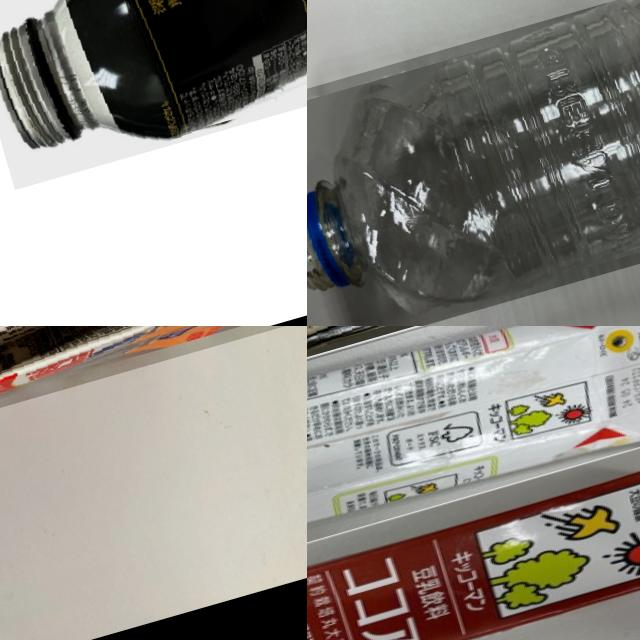Aluminium Foil: (307, 326, 640, 585), (307, 448, 640, 640), (0, 326, 295, 471)
Can: (0, 0, 307, 189), (307, 326, 575, 430)
Transparent Plastic Bottle: (307, 0, 640, 326)
